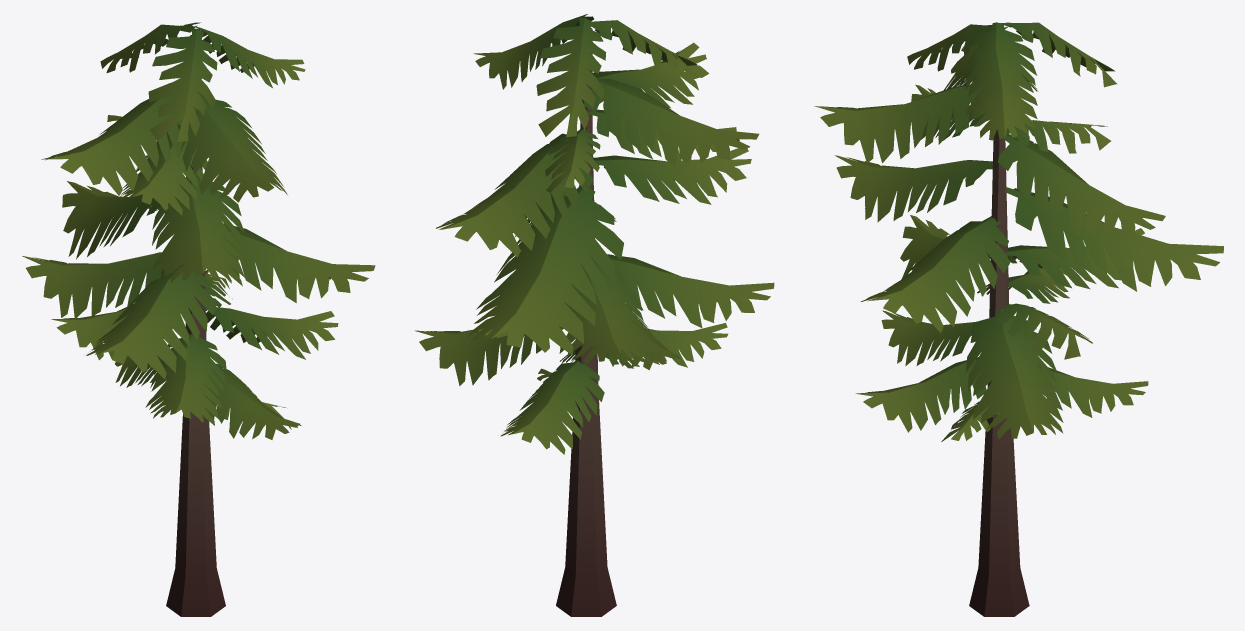
Rendered from DouglasFir.fbx.
3 renders of one model, left to right at view 1: azimuth 30°, elevation 25°; view 2: azimuth 150°, elevation 25°; view 3: azimuth 270°, elevation 25°, orthographic.
Parts seen in each view (by area): view 1: Cylinder.003; view 2: Cylinder.003; view 3: Cylinder.003.
Boxes of the visible parts, box(x1,y1,x2,y2) form: Cylinder.003: box(22, 22, 375, 616); Cylinder.003: box(414, 14, 774, 616); Cylinder.003: box(814, 22, 1223, 616).
Bounding box in the file's own units: 1232 × 2130 × 1396.
